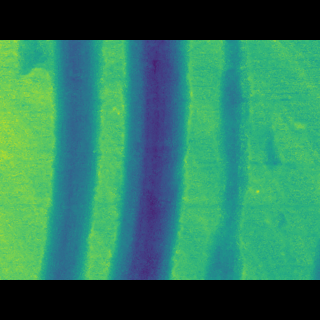Loch: (104, 69, 190, 251), (35, 69, 103, 250), (201, 69, 260, 250)
